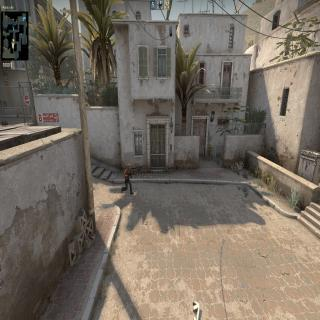T-Head: (128, 163, 130, 170)
